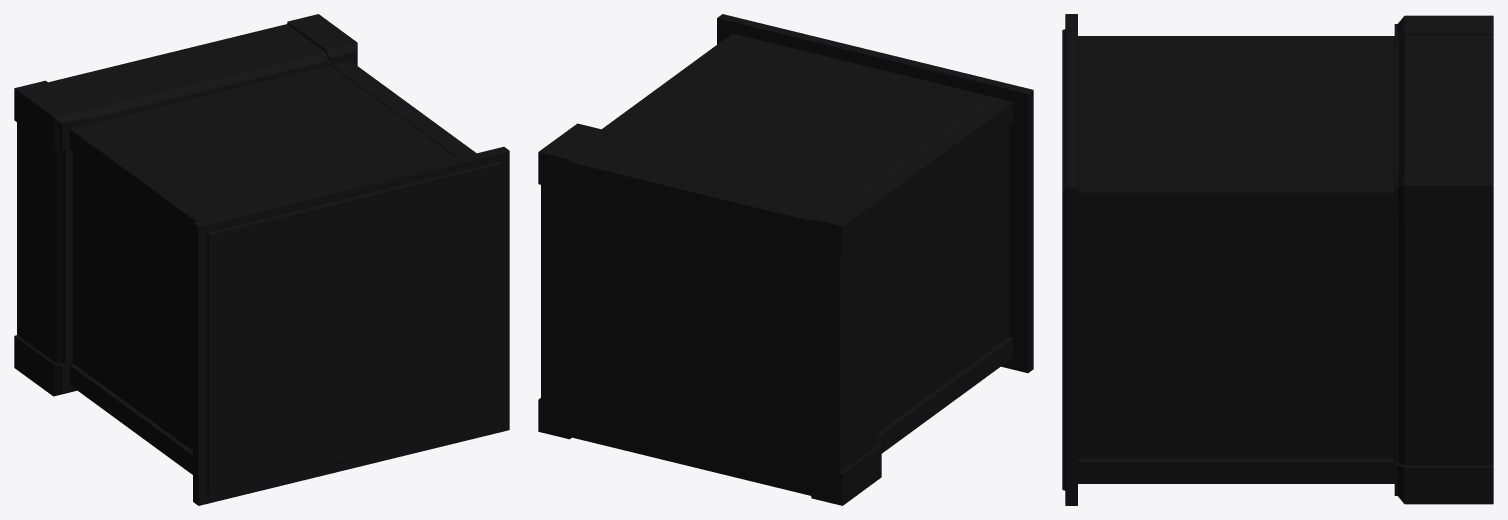
3 views of the same model, side by side, from view 1: azimuth 30°, elevation 25°; view 2: azimuth 150°, elevation 25°; view 3: azimuth 270°, elevation 25° (orthographic). The views are drawn at different scales.
Visible parts, largest first — view 1: Black; view 2: Black; view 3: Black.
Boxes of the visible parts, x1=… form: Black: x1=14, y1=14, x2=509, y2=505; Black: x1=538, y1=14, x2=1033, y2=505; Black: x1=1062, y1=14, x2=1493, y2=505.
Size of the model in its own units: 0.5708 by 0.4903 by 0.6.
Materials: 1 (1 with a texture image).
